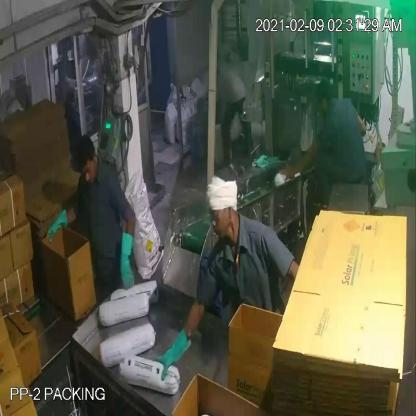glove: (154, 324, 195, 382), (108, 222, 139, 291), (37, 204, 73, 245)
no_glove: (273, 135, 327, 183)
